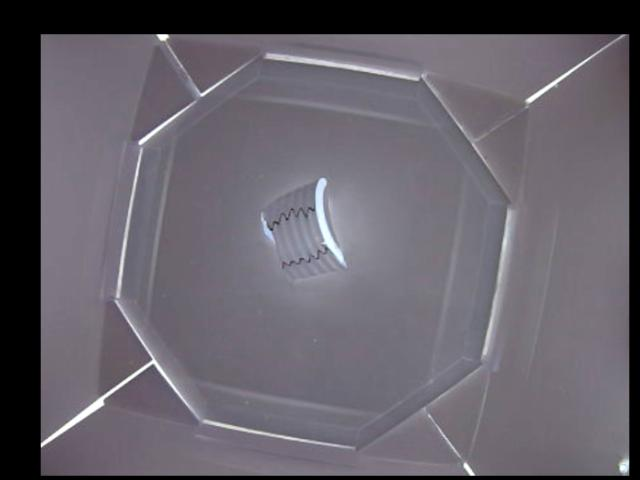China: (259, 177, 345, 279)
